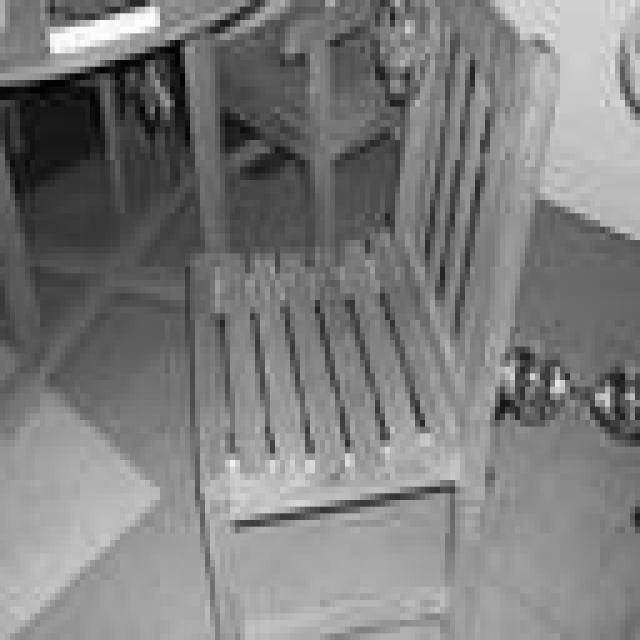chair: (180, 0, 566, 634)
